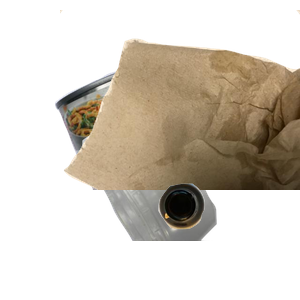glass: (156, 181, 300, 300)
metal: (52, 57, 260, 237)
plastic: (80, 120, 289, 300)
trash: (60, 10, 300, 190)
